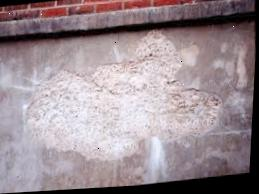spalling: (22, 30, 222, 159)
